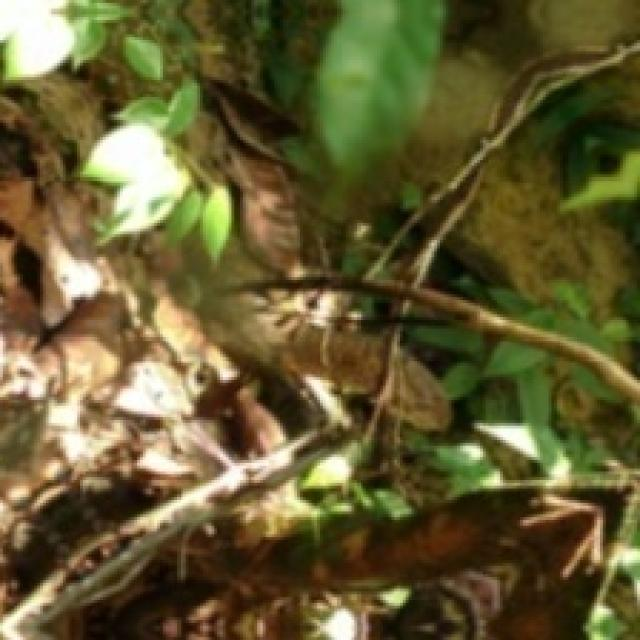king cobra: (220, 98, 305, 278), (259, 291, 390, 399), (385, 349, 451, 431)
